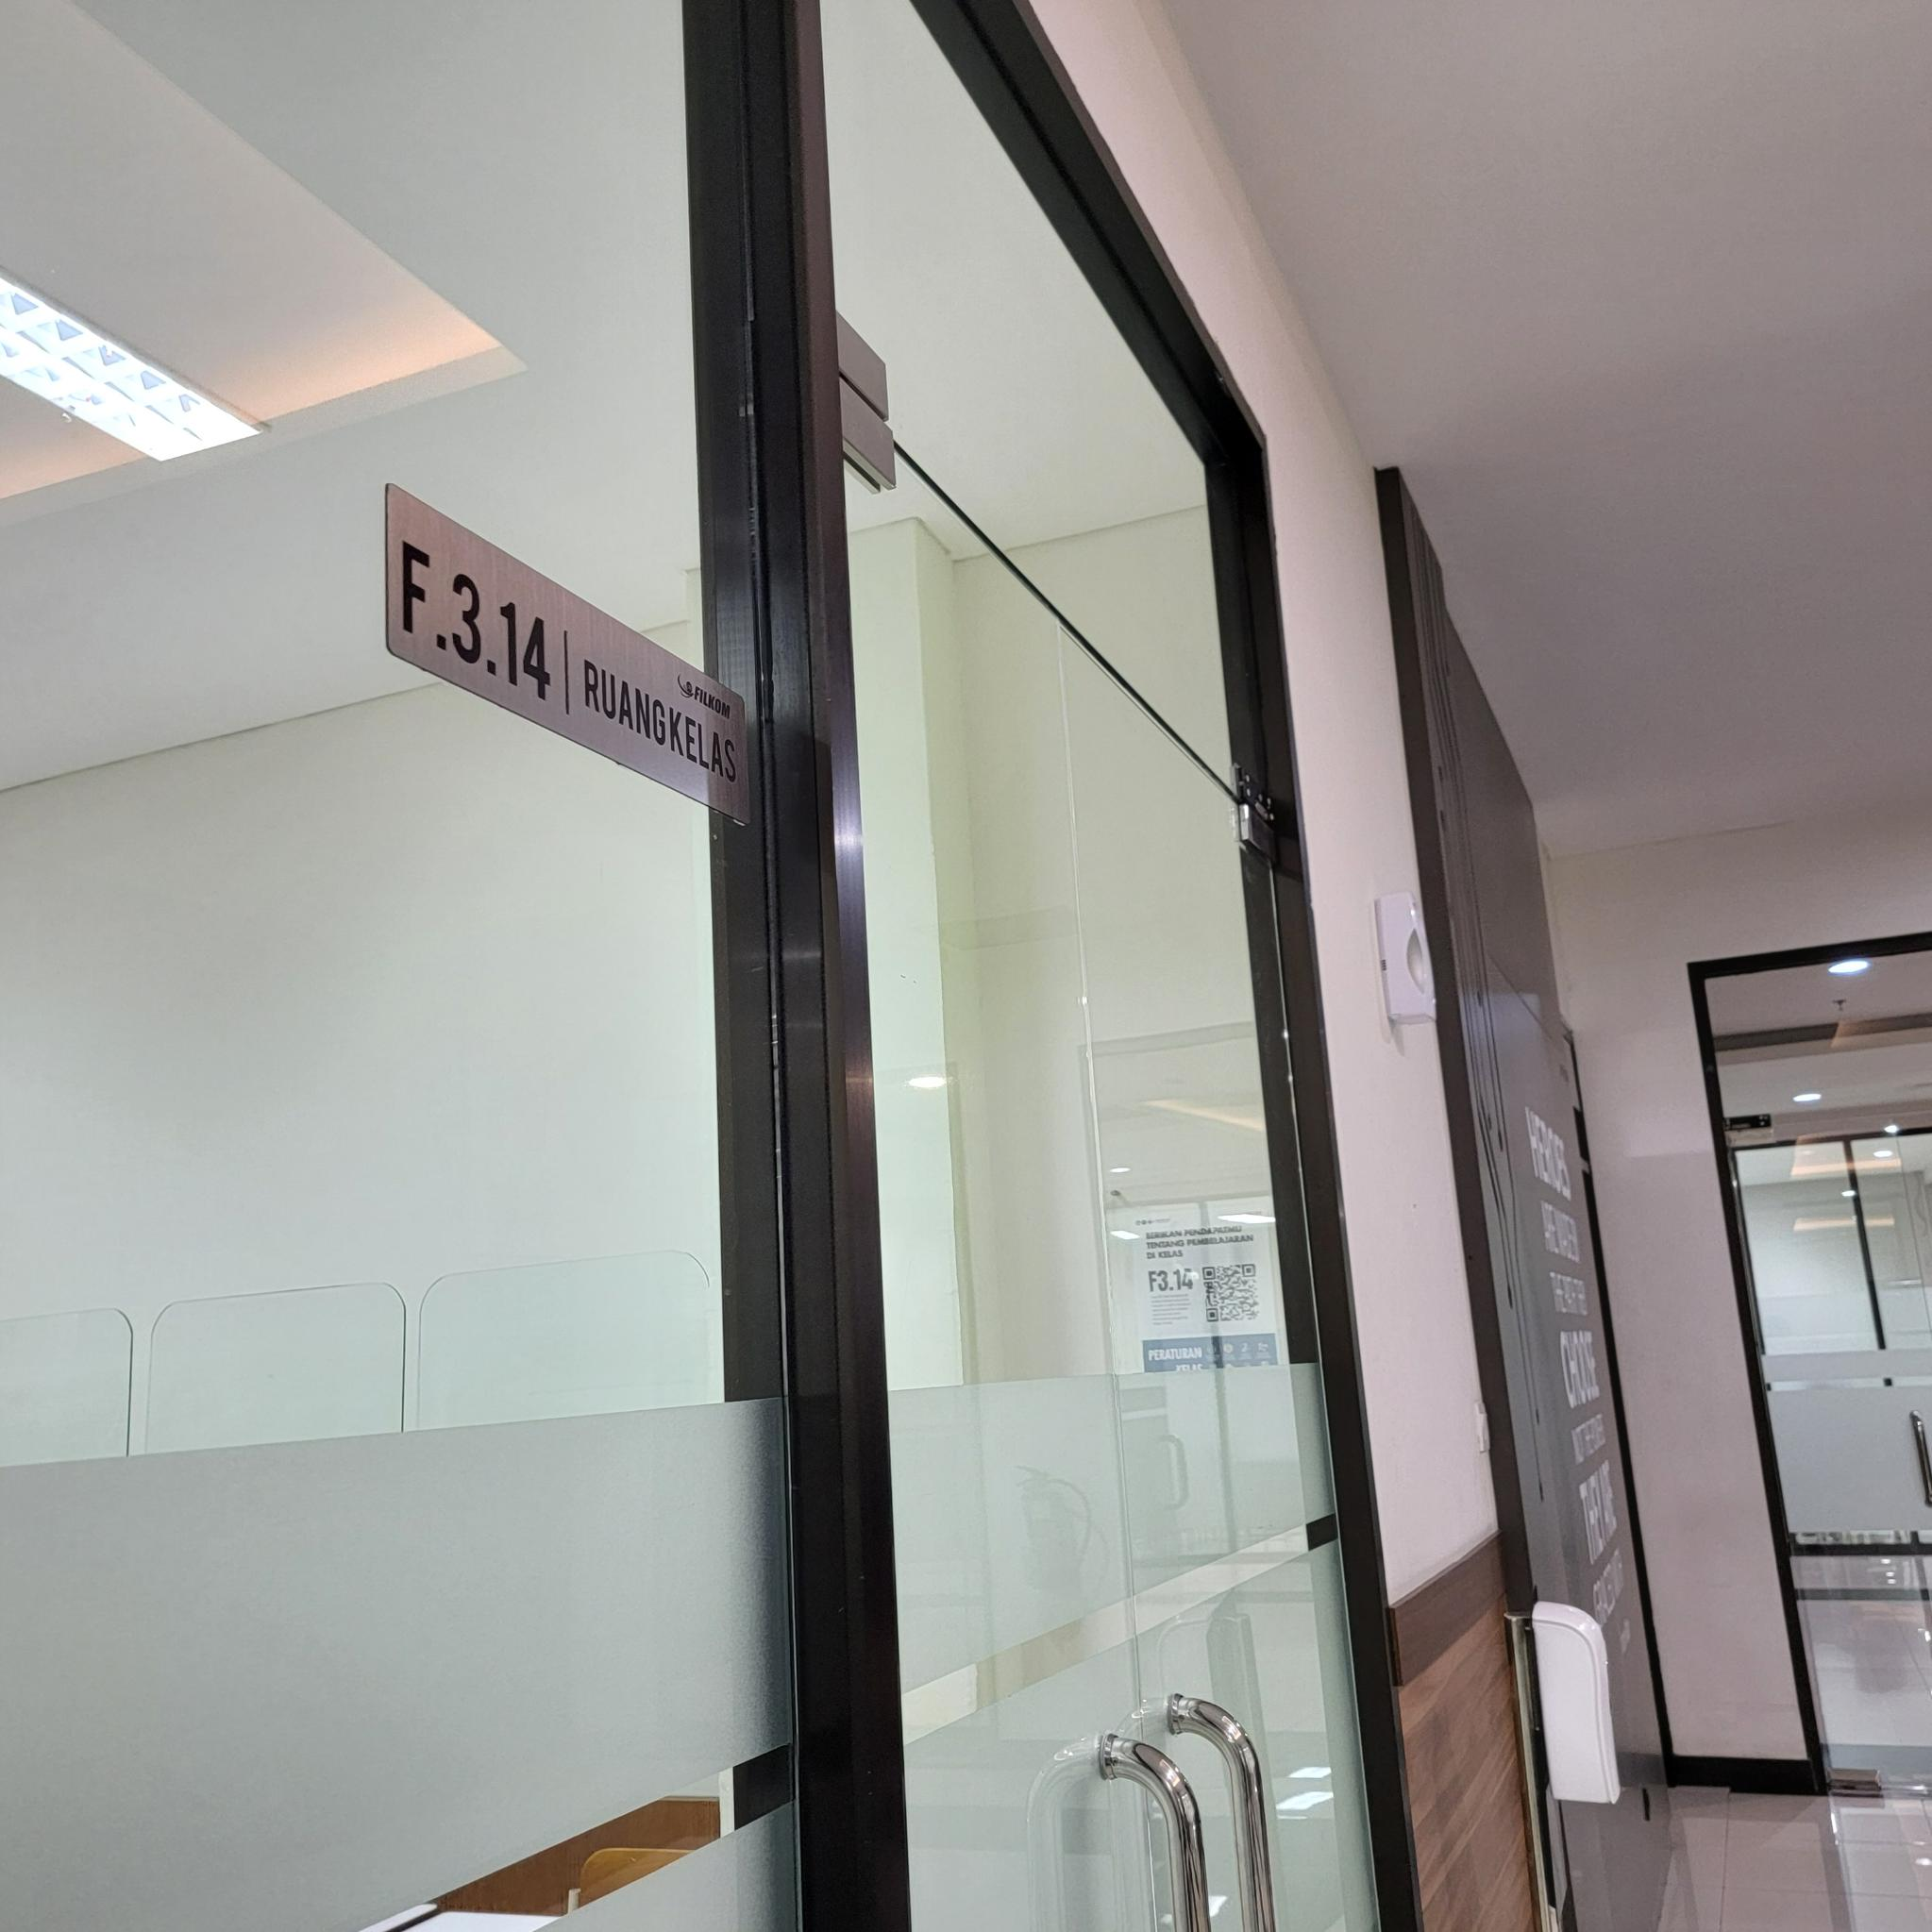plate: (382, 481, 752, 824)
